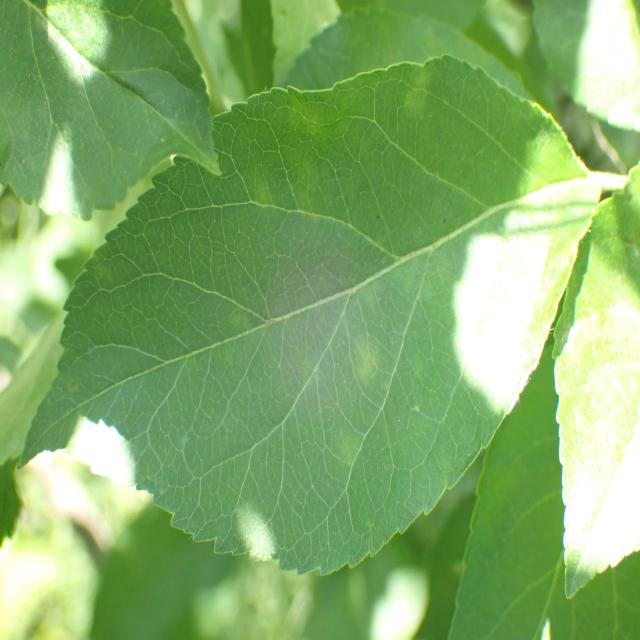scab: (138, 64, 501, 512)
